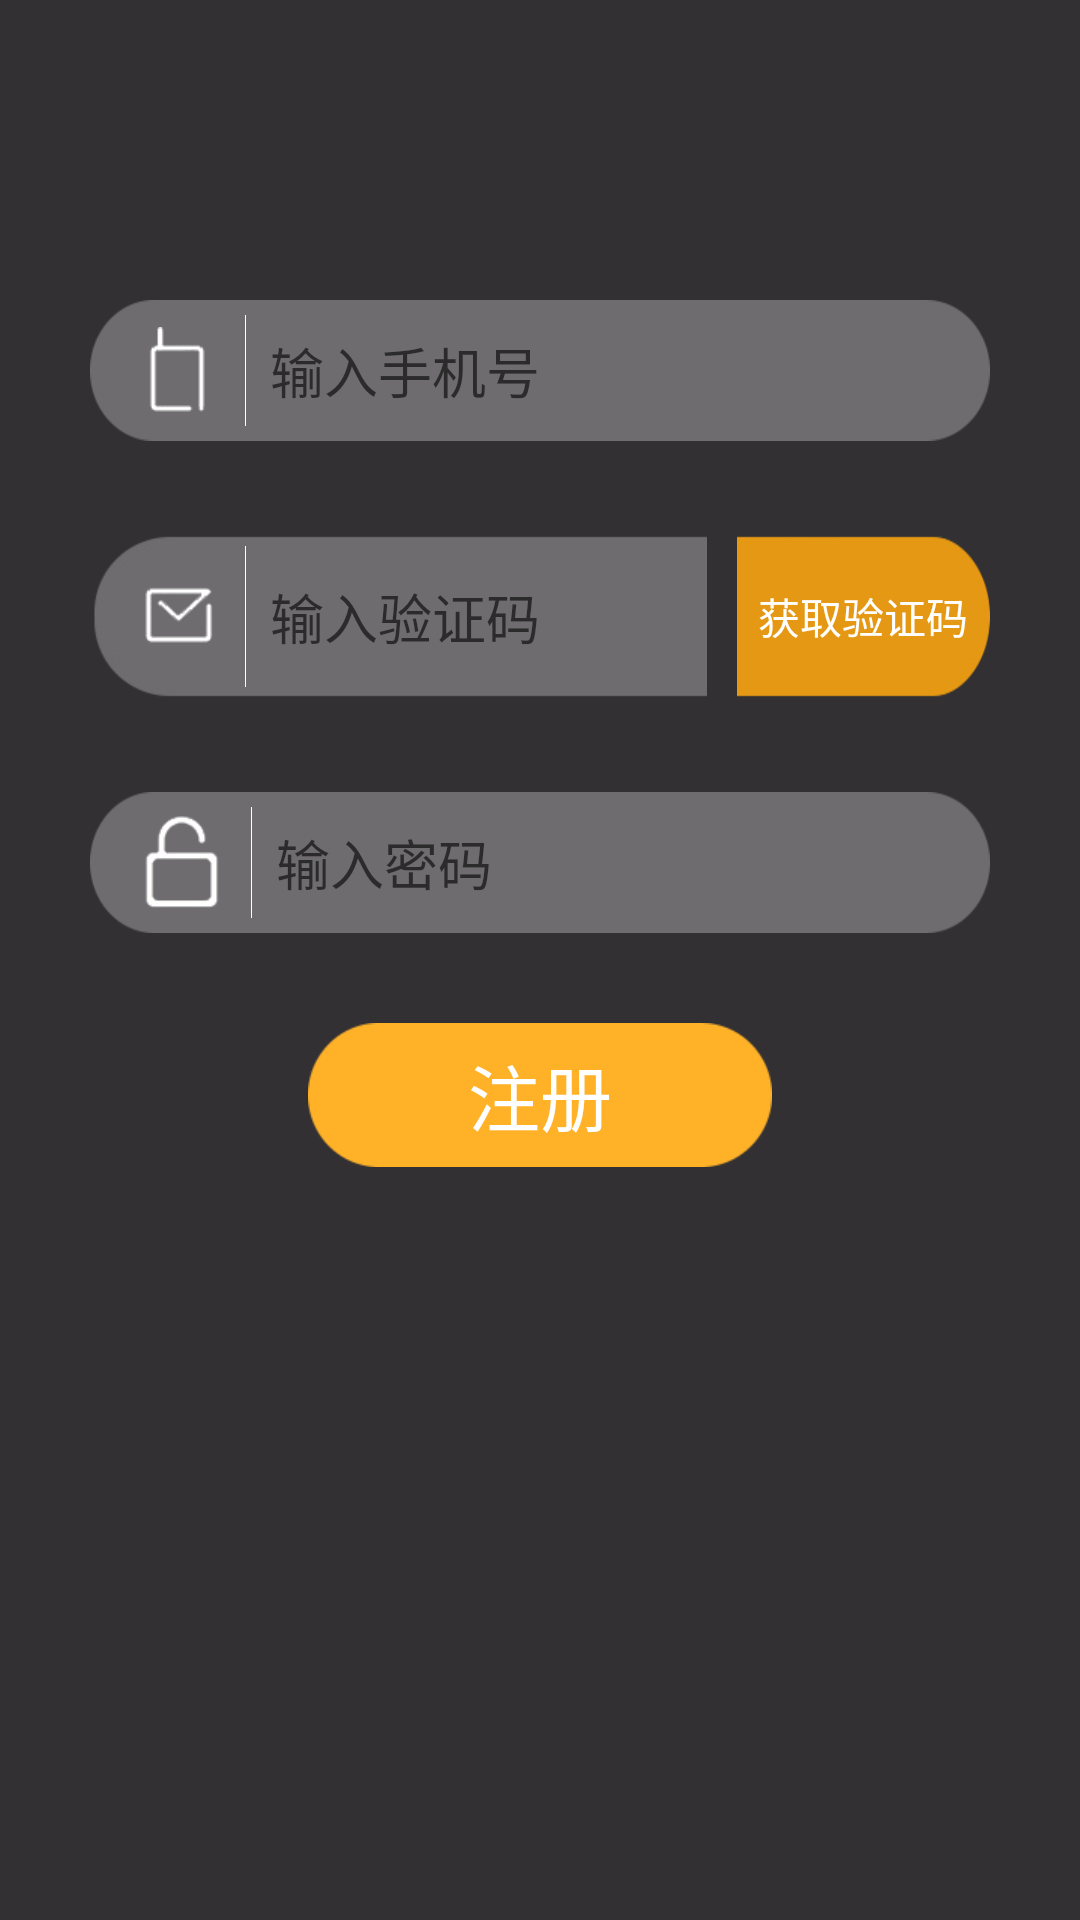

Point at icon controls on the screen. Image size 1080px×1920px, points as point (x, y).
login lock: point (182, 861)
register message: point (178, 615)
register phone: point (177, 369)
